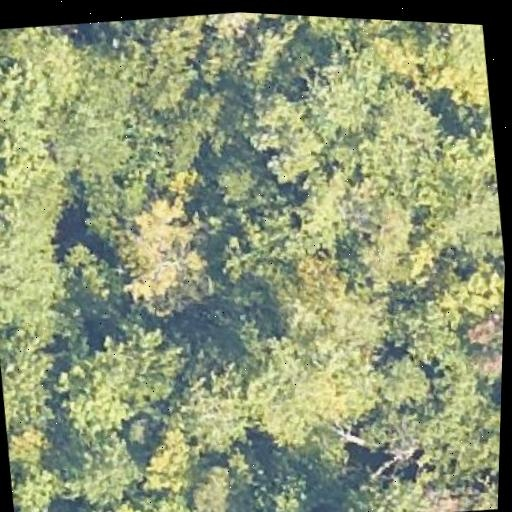tree-top: (233, 315, 389, 452), (41, 313, 199, 443), (104, 189, 217, 320), (404, 128, 506, 252), (43, 69, 143, 179), (236, 82, 331, 187), (348, 82, 444, 184), (410, 382, 501, 487), (46, 420, 147, 512), (0, 19, 94, 117), (258, 244, 353, 340), (128, 16, 214, 122), (410, 21, 494, 128), (301, 49, 393, 136), (226, 18, 319, 100), (326, 454, 457, 512), (0, 221, 69, 330), (381, 294, 469, 375), (0, 321, 66, 428), (171, 376, 260, 455), (347, 190, 416, 291), (57, 229, 126, 318), (243, 445, 332, 512), (4, 423, 68, 512), (299, 177, 366, 251), (204, 149, 270, 214), (369, 350, 436, 410), (458, 299, 504, 385), (183, 454, 250, 512), (69, 491, 175, 512), (457, 466, 499, 512), (0, 34, 12, 156), (294, 15, 350, 41)
